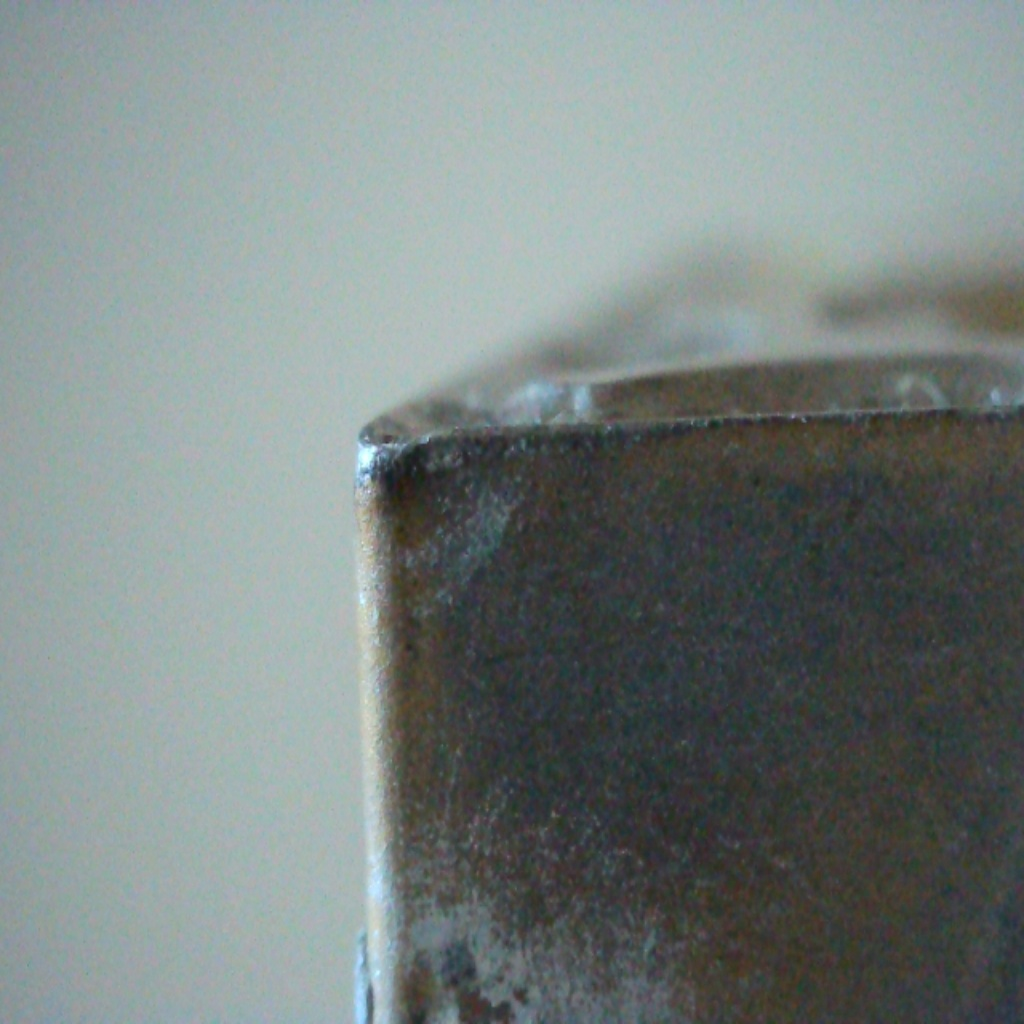flank_wear: (349, 439, 434, 494)
